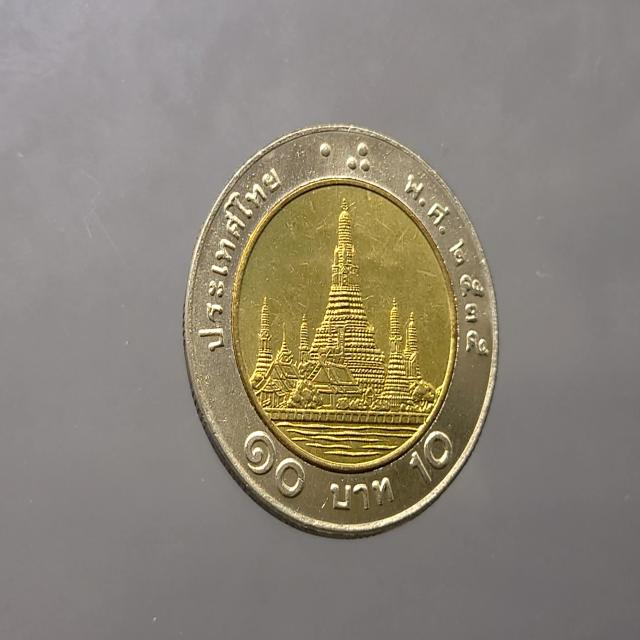10 Bath: (183, 120, 502, 544)
